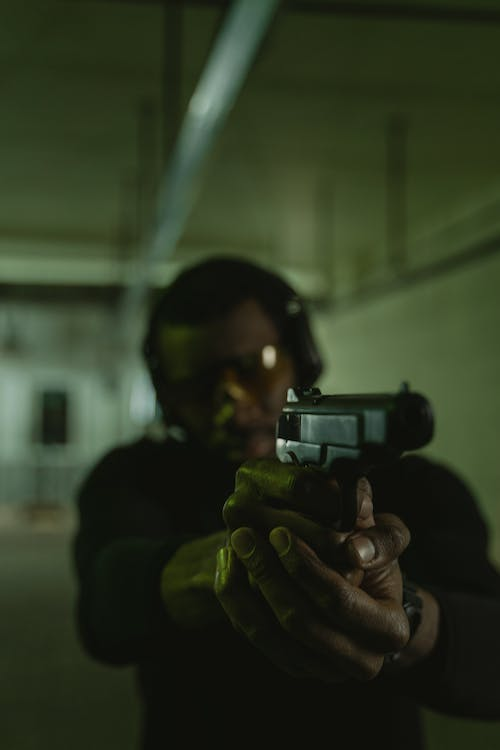gun: (267, 378, 441, 480)
